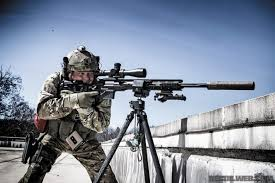Gun: (123, 69, 251, 104)
